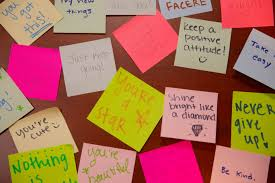stickynote: (84, 68, 169, 152), (115, 8, 180, 75), (10, 106, 80, 163), (60, 37, 120, 97), (161, 85, 220, 146), (177, 14, 230, 80), (7, 42, 63, 103), (230, 89, 275, 159), (137, 139, 206, 183), (207, 143, 272, 183), (236, 27, 275, 91), (75, 141, 134, 183), (220, 1, 274, 30)
